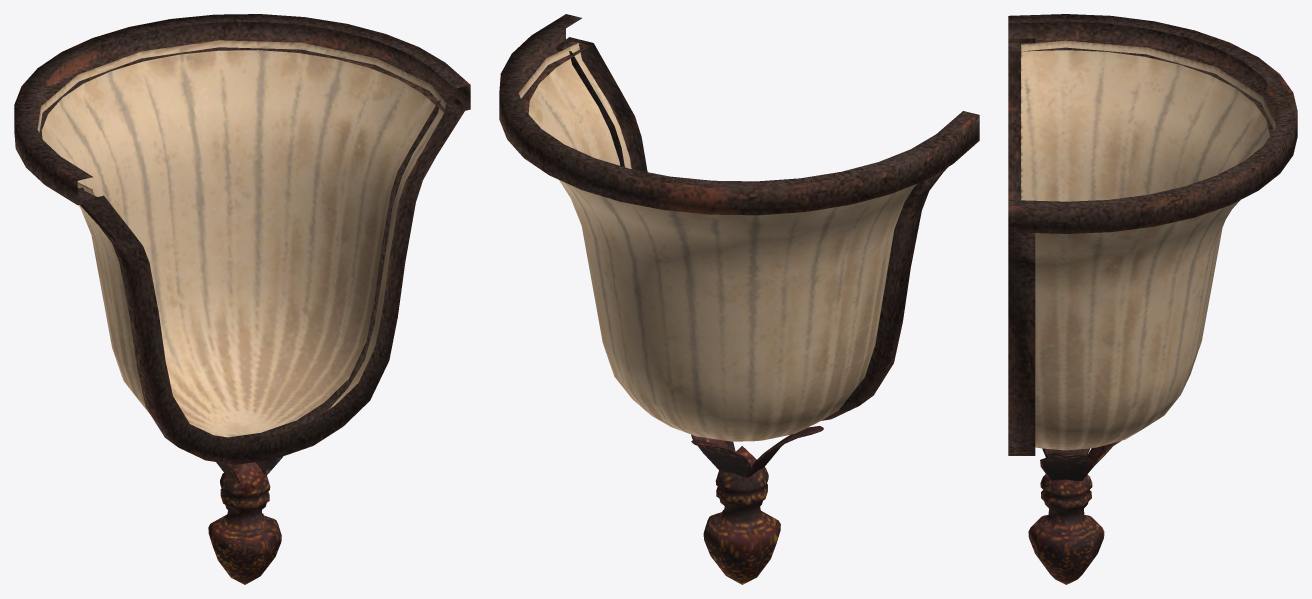
File: sm35_042_walllamp02a.fbx
3 views of the same model, side by side, from view 1: azimuth 30°, elevation 25°; view 2: azimuth 150°, elevation 25°; view 3: azimuth 270°, elevation 25° (orthographic). The views are drawn at different scales.
Parts seen in each view (by area): view 1: LOD_1_Group_0_Sub_1__sm35_042_WallLamp02A_B_Mat, LOD_1_Group_0_Sub_2__sm35_042_WallLamp02A_A_Mat; view 2: LOD_1_Group_0_Sub_1__sm35_042_WallLamp02A_B_Mat, LOD_1_Group_0_Sub_2__sm35_042_WallLamp02A_A_Mat; view 3: LOD_1_Group_0_Sub_1__sm35_042_WallLamp02A_B_Mat, LOD_1_Group_0_Sub_2__sm35_042_WallLamp02A_A_Mat.
Part boxes in pixels (x1,y1,x2,y2): LOD_1_Group_0_Sub_1__sm35_042_WallLamp02A_B_Mat: (37, 40, 446, 437); LOD_1_Group_0_Sub_2__sm35_042_WallLamp02A_A_Mat: (14, 14, 470, 584); LOD_1_Group_0_Sub_1__sm35_042_WallLamp02A_B_Mat: (519, 43, 916, 441); LOD_1_Group_0_Sub_2__sm35_042_WallLamp02A_A_Mat: (499, 14, 979, 584); LOD_1_Group_0_Sub_1__sm35_042_WallLamp02A_B_Mat: (1021, 40, 1275, 450); LOD_1_Group_0_Sub_2__sm35_042_WallLamp02A_A_Mat: (1008, 14, 1297, 584).
Size of the model in its own units: 0.263 by 0.2968 by 0.1646.
